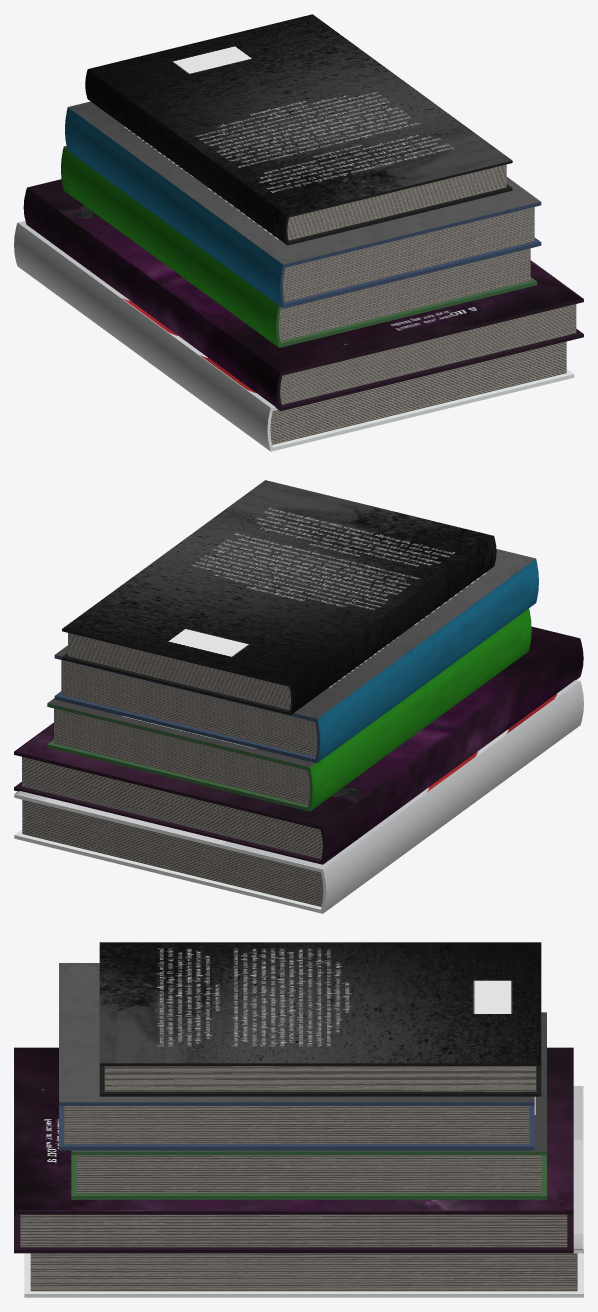
File: SM_Furniture_Living_Room_Books_01.fbx
3 views of the same model, one above another, from view 1: azimuth 30°, elevation 25°; view 2: azimuth 150°, elevation 25°; view 3: azimuth 270°, elevation 25° (orthographic). The views are drawn at different scales.
Visible parts, largest first — view 1: SM_Furniture_Living_Room_Books_01; view 2: SM_Furniture_Living_Room_Books_01; view 3: SM_Furniture_Living_Room_Books_01.
Part boxes in pixels (box(x1,y1,x2,y2)): SM_Furniture_Living_Room_Books_01: box(14, 14, 583, 451); SM_Furniture_Living_Room_Books_01: box(14, 480, 583, 913); SM_Furniture_Living_Room_Books_01: box(14, 942, 583, 1297).
Bounding box in the file's own units: 27.1 × 38.85 × 16.51.
Materials: 6 (6 with a texture image).
